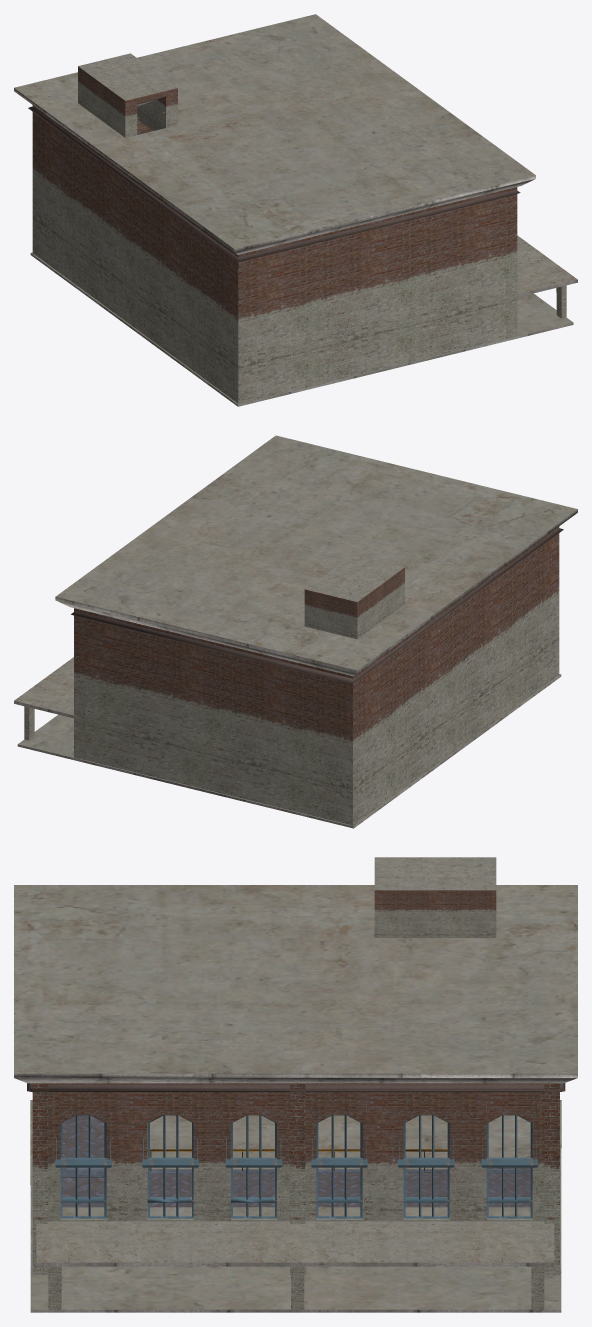
Rendered from Building_Factoryhouse02_2048_lod2.glb.
3 views of the same model, one above another, from view 1: azimuth 30°, elevation 25°; view 2: azimuth 150°, elevation 25°; view 3: azimuth 270°, elevation 25° (orthographic). The views are drawn at different scales.
Visible parts, largest first — view 1: xiutz_factoryhouse_02_lod2; view 2: xiutz_factoryhouse_02_lod2; view 3: xiutz_factoryhouse_02_lod2.
Boxes of the visible parts, x1=… form: xiutz_factoryhouse_02_lod2: x1=14, y1=14, x2=577, y2=406; xiutz_factoryhouse_02_lod2: x1=14, y1=435, x2=577, y2=828; xiutz_factoryhouse_02_lod2: x1=14, y1=857, x2=577, y2=1312.
Size of the model in its own units: 45.71 by 25.06 by 49.47.
1 material, 1 textured.
